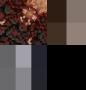axe: (47, 0, 86, 45)
spider: (0, 0, 47, 45)
